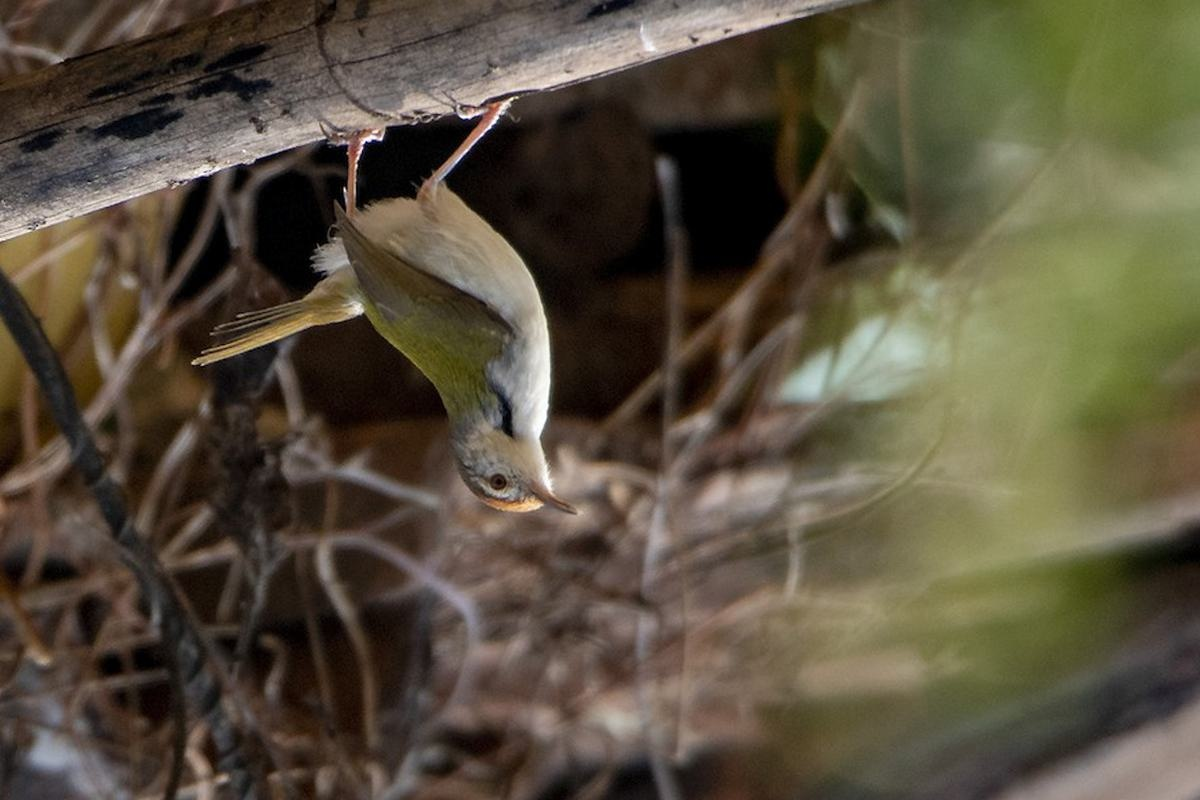tailorbird: (216, 104, 667, 584)
